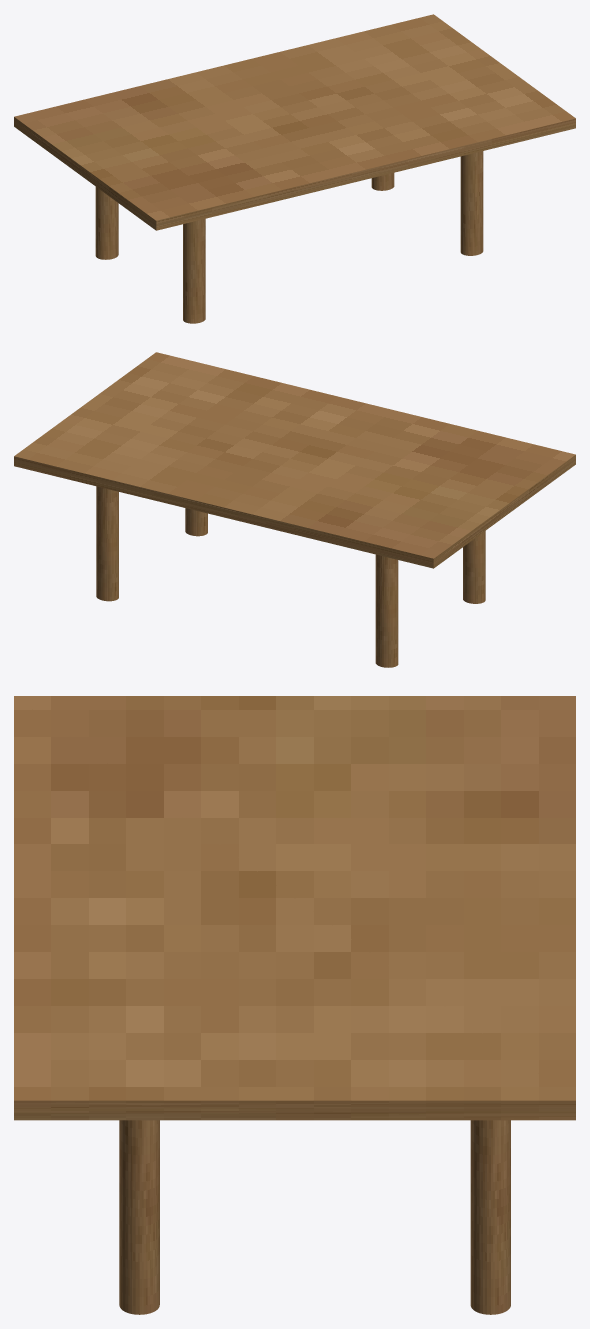
File: KitchenTable.fbx
3 views of the same model, one above another, from view 1: azimuth 30°, elevation 25°; view 2: azimuth 150°, elevation 25°; view 3: azimuth 270°, elevation 25° (orthographic). The views are drawn at different scales.
Visible parts, largest first — view 1: Cube, Cylinder, Cylinder.001, Cylinder.002; view 2: Cube, Cylinder.002, Cylinder.003, Cylinder.001, Cylinder; view 3: Cube, Cylinder, Cylinder.003.
Boxes of the visible parts, box(x1,y1,x2,y2) form: Cube: box(14, 14, 575, 230); Cylinder: box(460, 151, 483, 255); Cylinder.001: box(183, 219, 205, 323); Cylinder.002: box(95, 187, 118, 259); Cube: box(14, 352, 575, 568); Cylinder.002: box(375, 554, 398, 667); Cylinder.003: box(96, 486, 118, 601); Cylinder.001: box(463, 531, 485, 603); Cylinder: box(185, 508, 207, 536); Cube: box(14, 696, 575, 1120); Cylinder: box(119, 1120, 159, 1314); Cylinder.003: box(470, 1120, 510, 1314).
Size of the model in its own units: 653 by 206 by 383.
5 materials, 5 textured.
